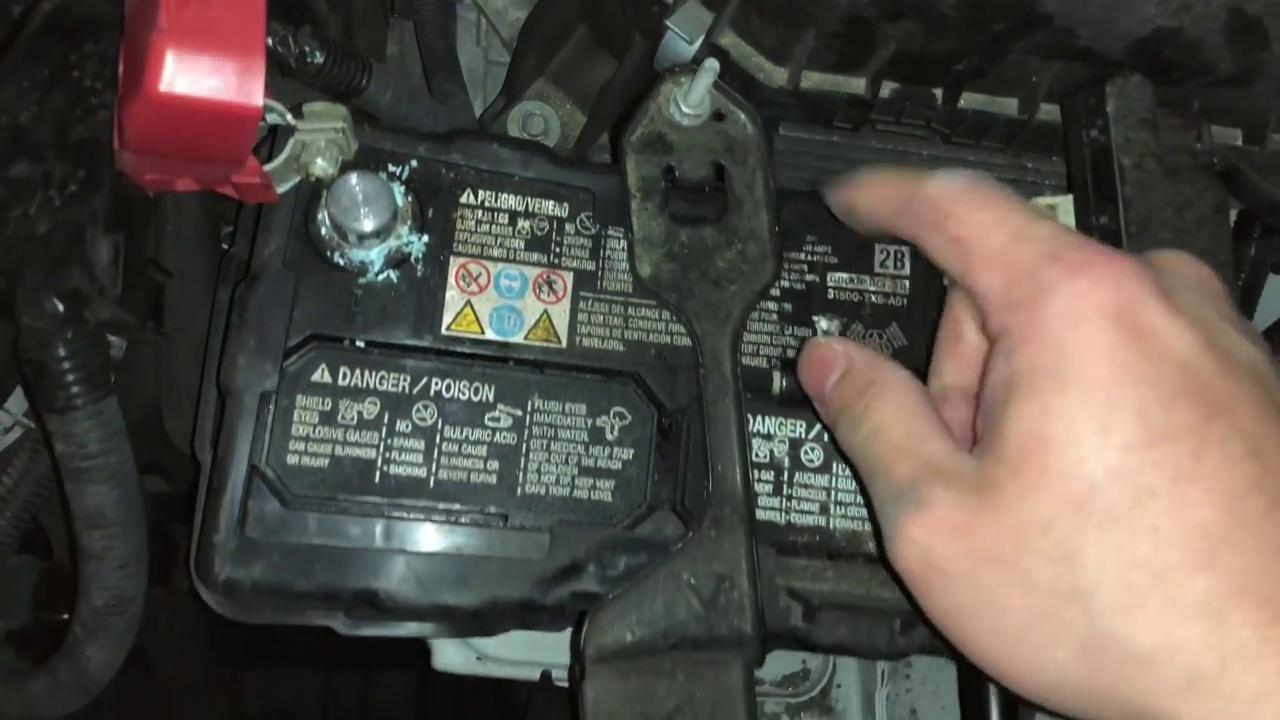battery: (230, 101, 1096, 617)
pos_disconnected: (151, 58, 399, 269)
